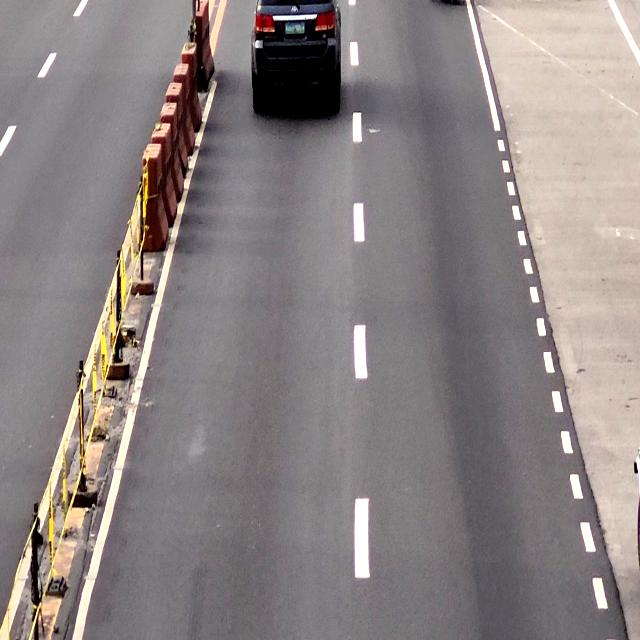Car: (253, 0, 338, 113)
